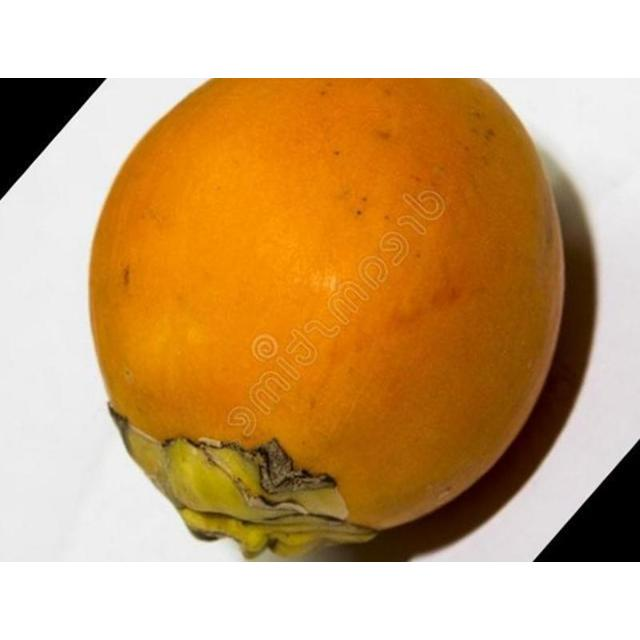good: (86, 78, 567, 561)
